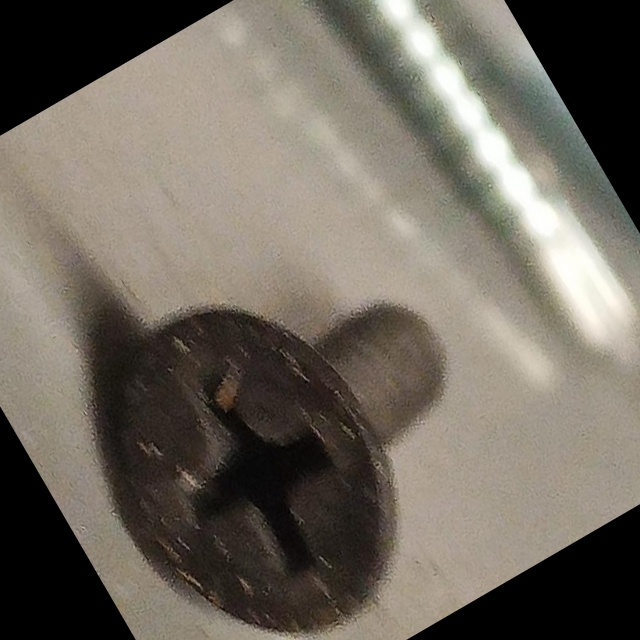phillips: (51, 252, 454, 640)
